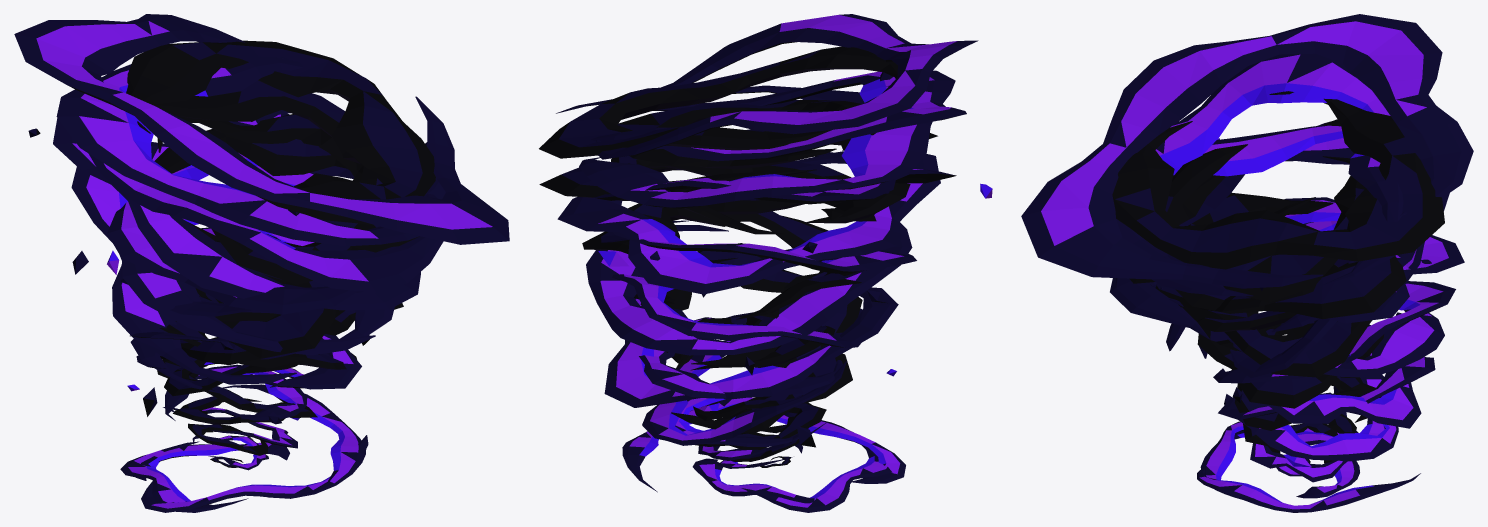
File: Void_Storm.fbx
The picture shows the model from 3 angles, left to right: view 1: azimuth 30°, elevation 25°; view 2: azimuth 150°, elevation 25°; view 3: azimuth 270°, elevation 25°; orthographic projection. The views are drawn at different scales.
Visible parts, largest first — view 1: Wind_Ribbon_28.001, Wind_Ribbon_27.001, Wind_Ribbon_26.002, Wind_Ribbon_24.003, Wind_Ribbon_22.005, Wind_Ribbon_18.005, Wind_Ribbon_20.005, Wind_Ribbon_25.003, Wind_Ribbon_14.006, Wind_Ribbon_23.004, Wind_Ribbon_21.005, Wind_Ribbon_17.005 (+16 smaller); view 2: Wind_Ribbon_28.001, Wind_Ribbon_20.005, Wind_Ribbon_27.001, Wind_Ribbon_24.003, Wind_Ribbon_16.006, Wind_Ribbon_12.006, Wind_Ribbon_26.002, Wind_Ribbon_25.003, Wind_Ribbon_08.007, Wind_Ribbon_14.006, Wind_Ribbon_18.005, Wind_Ribbon_19.005 (+18 smaller); view 3: Wind_Ribbon_28.001, Wind_Ribbon_27.001, Wind_Ribbon_26.002, Wind_Ribbon_19.005, Wind_Ribbon_23.004, Wind_Ribbon_25.003, Wind_Ribbon_22.005, Wind_Ribbon_24.003, Wind_Ribbon_12.006, Wind_Ribbon_16.006, Wind_Ribbon_08.007, Wind_Ribbon_14.006 (+13 smaller).
Boxes of the visible parts, box(x1,y1,x2,y2) form: Wind_Ribbon_28.001: box(14, 14, 509, 244); Wind_Ribbon_27.001: box(126, 40, 435, 224); Wind_Ribbon_26.002: box(56, 56, 445, 246); Wind_Ribbon_24.003: box(88, 93, 443, 293); Wind_Ribbon_22.005: box(53, 113, 420, 310); Wind_Ribbon_18.005: box(71, 142, 375, 355); Wind_Ribbon_20.005: box(107, 153, 357, 314); Wind_Ribbon_25.003: box(153, 80, 435, 252); Wind_Ribbon_14.006: box(112, 219, 394, 384); Wind_Ribbon_23.004: box(157, 114, 363, 284); Wind_Ribbon_21.005: box(154, 129, 363, 287); Wind_Ribbon_17.005: box(205, 293, 335, 358); Wind_Ribbon_28.001: box(556, 14, 978, 159); Wind_Ribbon_20.005: box(557, 151, 940, 294); Wind_Ribbon_27.001: box(539, 46, 897, 158); Wind_Ribbon_24.003: box(579, 85, 932, 208); Wind_Ribbon_16.006: box(586, 222, 912, 355); Wind_Ribbon_12.006: box(604, 287, 898, 407); Wind_Ribbon_26.002: box(591, 70, 966, 161); Wind_Ribbon_25.003: box(617, 99, 876, 168); Wind_Ribbon_08.007: box(642, 340, 846, 443); Wind_Ribbon_14.006: box(612, 274, 862, 347); Wind_Ribbon_18.005: box(613, 219, 916, 273); Wind_Ribbon_19.005: box(582, 183, 910, 263); Wind_Ribbon_28.001: box(1021, 14, 1473, 288); Wind_Ribbon_27.001: box(1112, 91, 1444, 269); Wind_Ribbon_26.002: box(1116, 53, 1403, 296); Wind_Ribbon_19.005: box(1182, 192, 1371, 377); Wind_Ribbon_23.004: box(1173, 156, 1406, 319); Wind_Ribbon_25.003: box(1129, 119, 1365, 302); Wind_Ribbon_22.005: box(1110, 121, 1415, 339); Wind_Ribbon_24.003: box(1173, 125, 1449, 286); Wind_Ribbon_12.006: box(1267, 324, 1421, 428); Wind_Ribbon_16.006: box(1233, 309, 1444, 377); Wind_Ribbon_08.007: box(1249, 374, 1398, 461); Wind_Ribbon_14.006: box(1199, 281, 1455, 383).
Bounding box in the file's own units: 1000 × 1094 × 1165.
